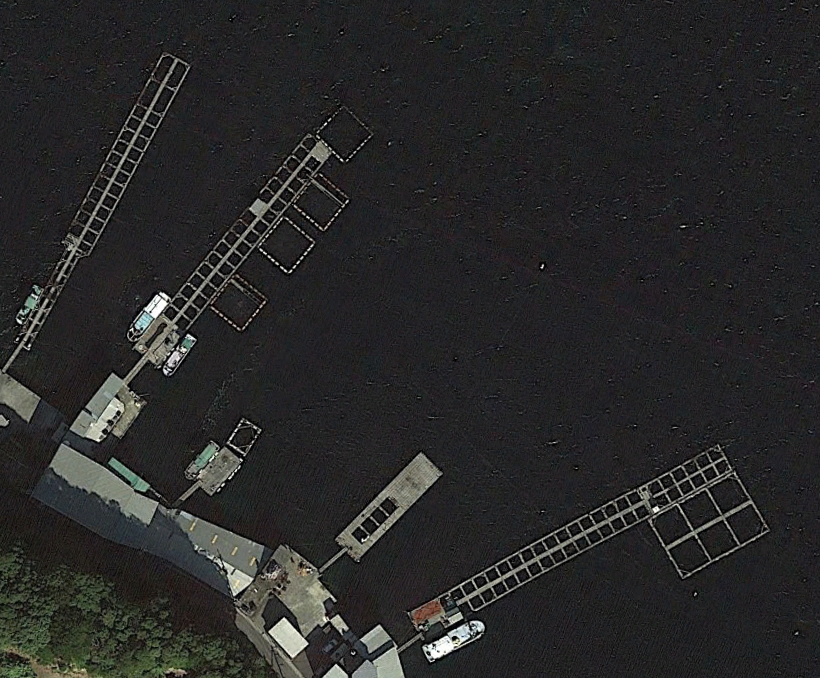house: (36, 443, 255, 599), (265, 615, 315, 663)
platform: (316, 438, 445, 560), (73, 367, 149, 449), (182, 440, 254, 499), (403, 588, 461, 643)
ship: (118, 286, 174, 344), (419, 620, 495, 660), (178, 434, 221, 482), (160, 332, 201, 380)
square: (207, 276, 273, 341), (285, 174, 357, 232), (313, 98, 377, 162), (257, 214, 321, 275), (220, 413, 268, 460)
